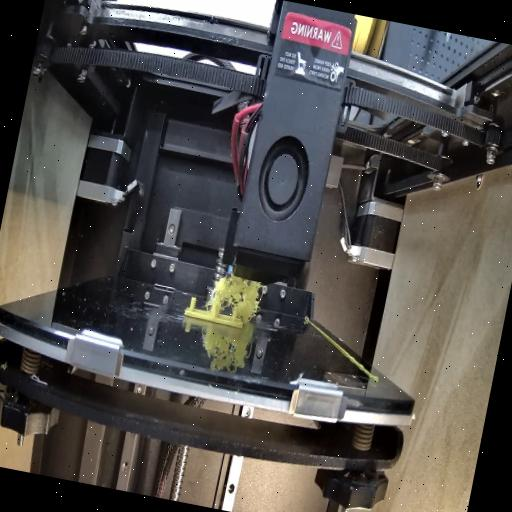spaghetti: (205, 269, 268, 323)
